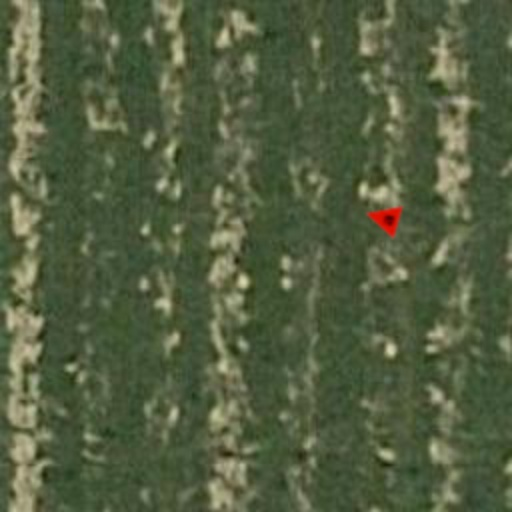triangle: (360, 196, 404, 240)
